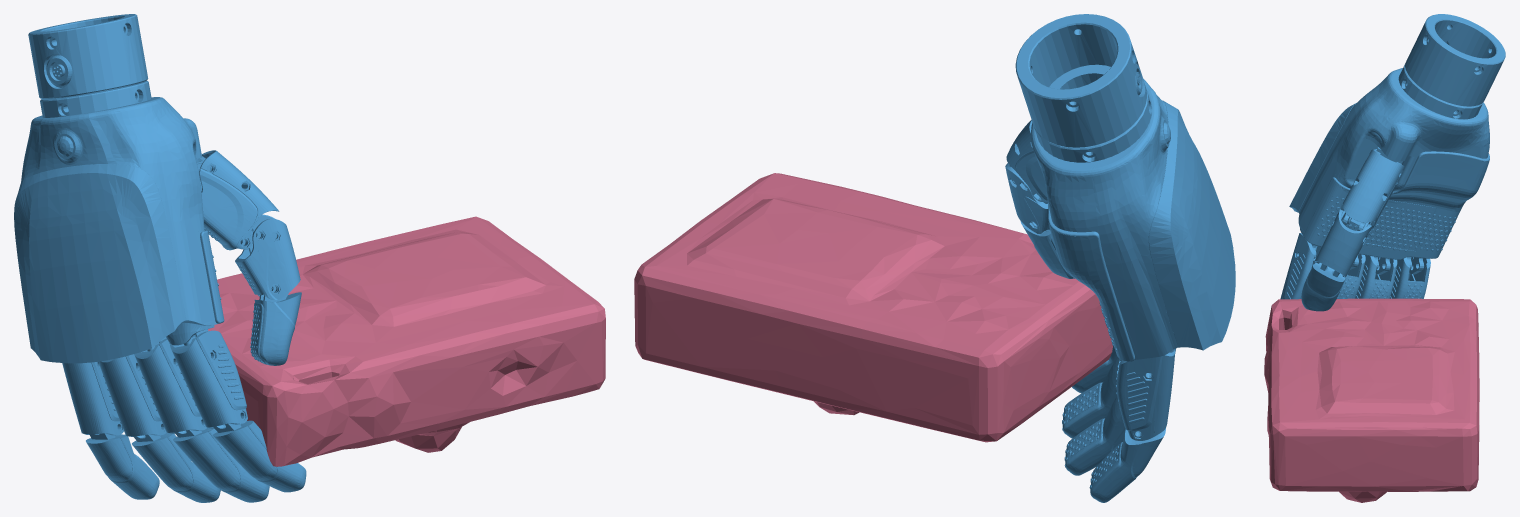
3 views of the same model, side by side, from view 1: azimuth 30°, elevation 25°; view 2: azimuth 150°, elevation 25°; view 3: azimuth 270°, elevation 25° (orthographic). The views are drawn at different scales.
Visible parts, largest first — view 1: 3; view 2: 3; view 3: 3.
Boxes of the visible parts, left/top/right/bottom form: 3: left=14, top=14, right=605, bottom=502; 3: left=634, top=14, right=1235, bottom=502; 3: left=1264, top=14, right=1505, bottom=502.
Bounding box in the file's own units: 0.2594 × 0.2329 × 0.1374.
